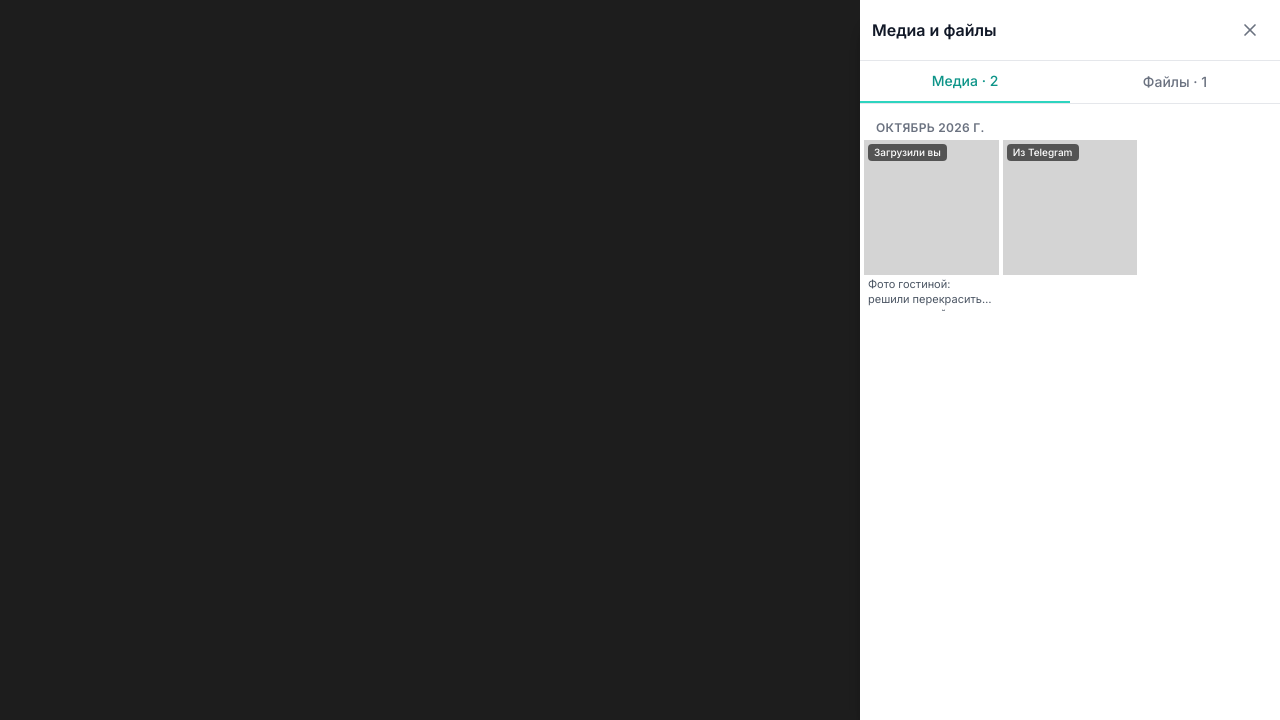
Test case: ChatFilesPanel — загрузки пользователя › просмотр загрузки: оригинал из blob и полный комментарий; «Удалить» в просмотре закрывает его и убирает плитку
Step 1. Click the button "Загрузили вы" → [931, 207], box left=864, top=140, right=999, bottom=275
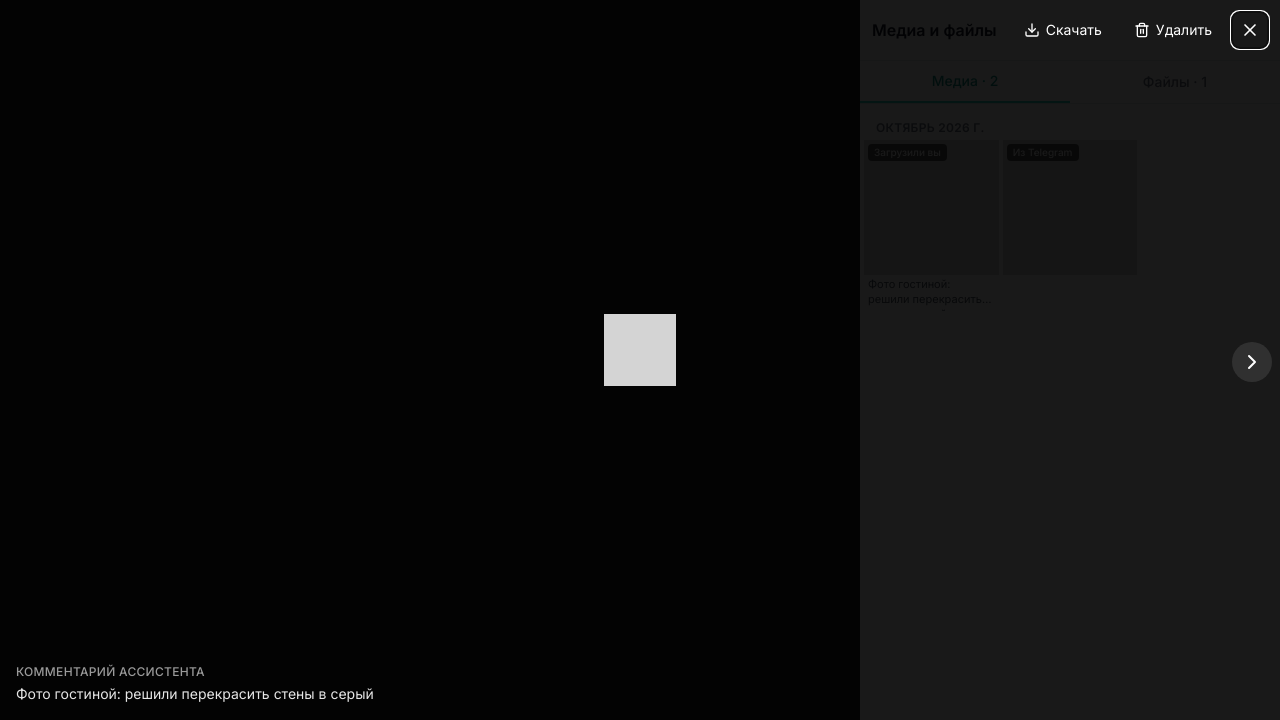
Now the dialog with test id "media-viewer" is shown
Now the element with test id "media-viewer-note" shows "Фото гостиной: решили перекрасить стены в серый", box left=16, top=685, right=374, bottom=702
Step 2. Click the button "Удалить" → [1173, 30], box left=1122, top=12, right=1224, bottom=48
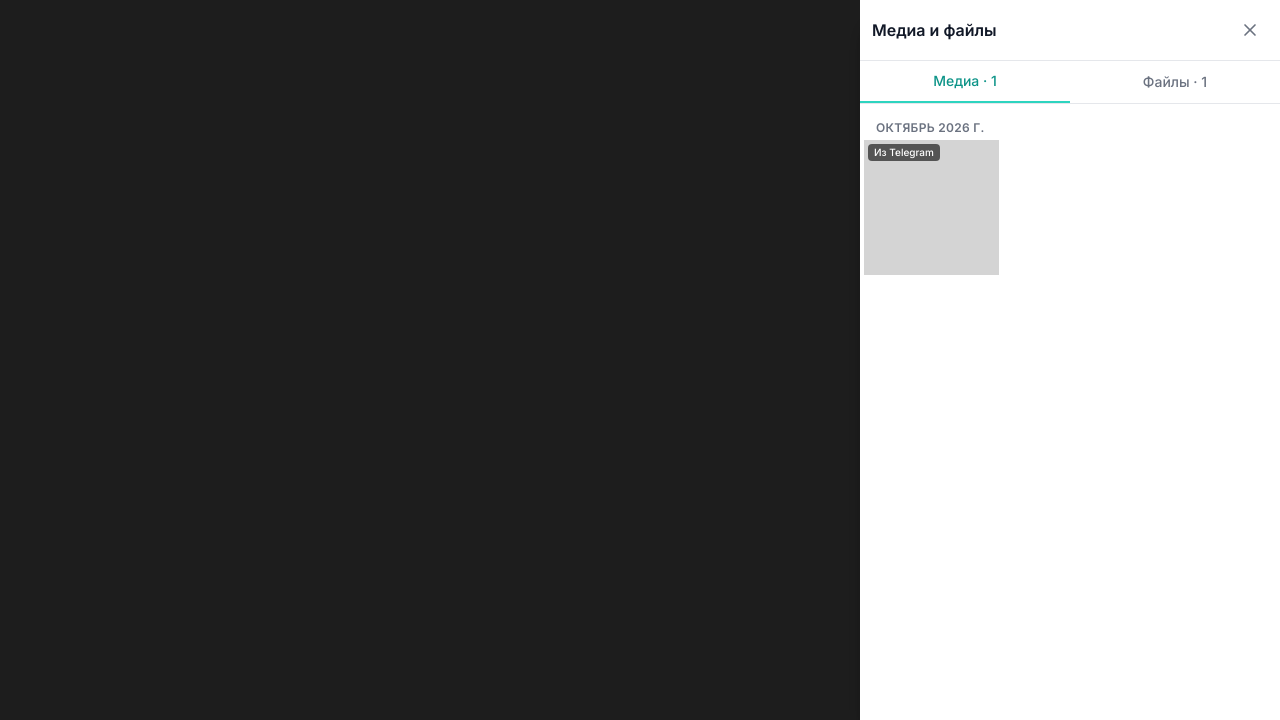
Now the dialog with test id "media-viewer" is gone
